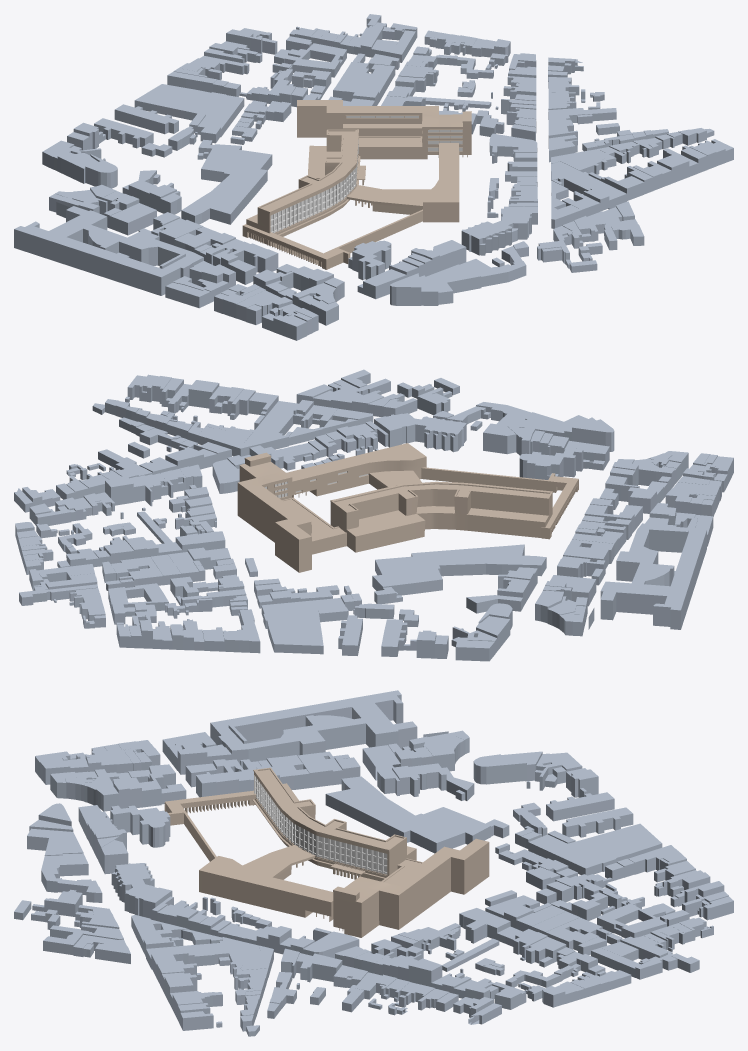
The model's file is libourne_lycee_max_linder.glb.
3 views of the same model, one above another, from view 1: azimuth 30°, elevation 25°; view 2: azimuth 150°, elevation 25°; view 3: azimuth 270°, elevation 25° (orthographic). The views are drawn at different scales.
Parts seen in each view (by area): view 1: topoexport_3D_modeling.001, lycee_max_linder; view 2: topoexport_3D_modeling.001, lycee_max_linder; view 3: topoexport_3D_modeling.001, lycee_max_linder.
Part boxes in pixels (box(x1,y1,x2,y2)): topoexport_3D_modeling.001: box(14, 14, 733, 340); lycee_max_linder: box(242, 100, 471, 269); topoexport_3D_modeling.001: box(14, 369, 733, 661); lycee_max_linder: box(237, 443, 578, 572); topoexport_3D_modeling.001: box(14, 690, 733, 1036); lycee_max_linder: box(164, 767, 489, 937).
Size of the model in its own units: 103 by 6.86 by 93.12.
